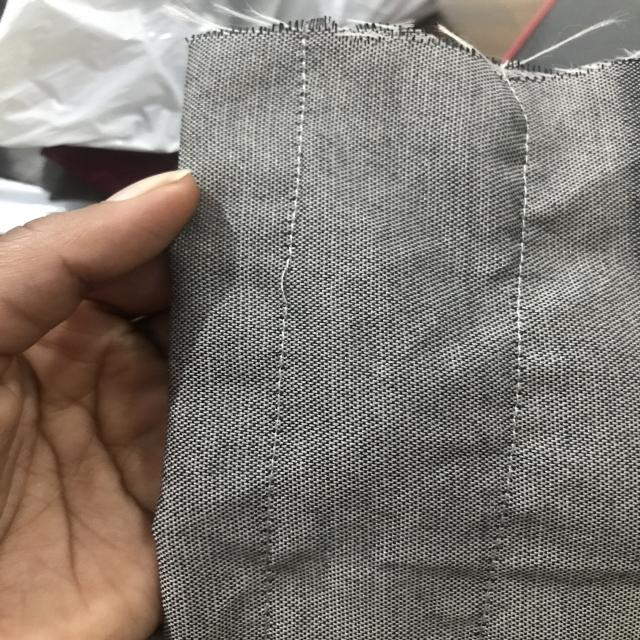skip: (260, 248, 316, 320)
